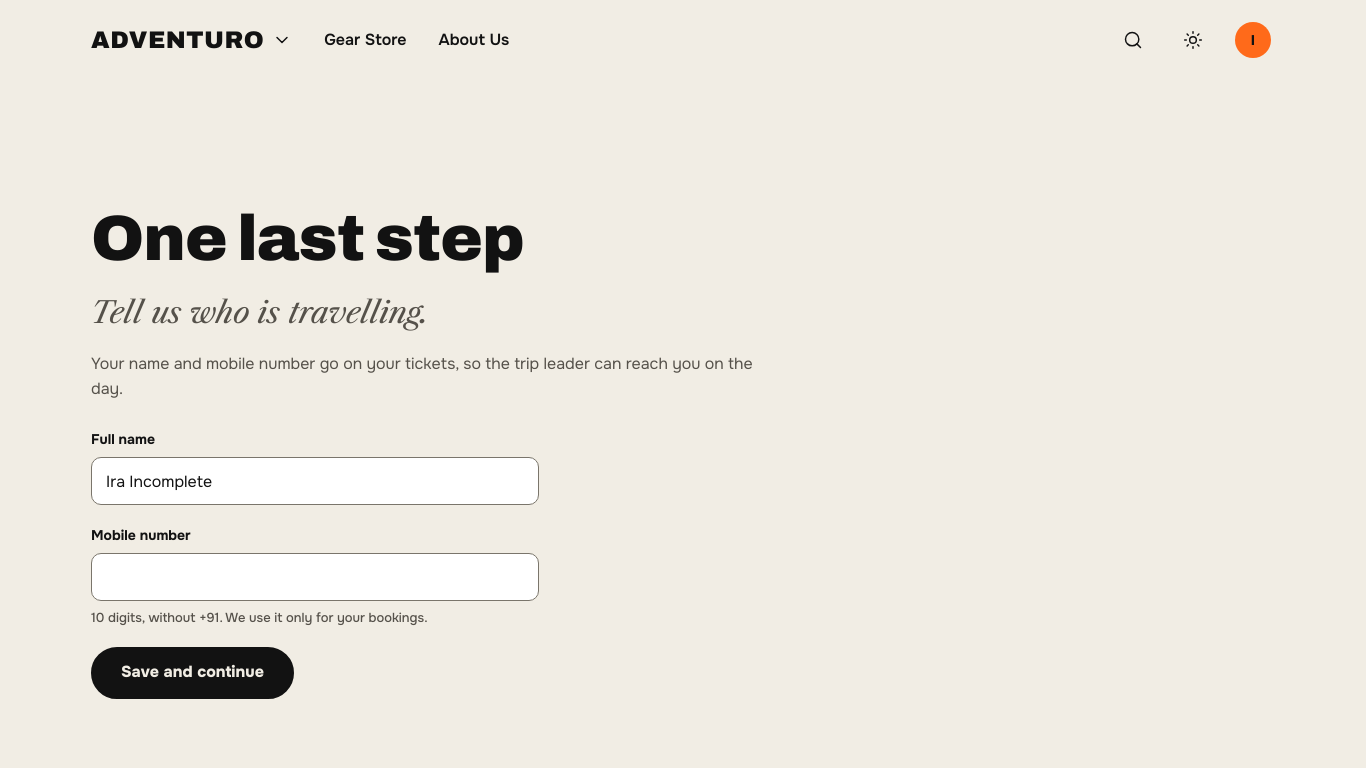
Scenario: onboarding › shows our own wording on a field the server rejects
The width and height of the screenshot is (1366, 768).
Expected: the heading "One last step" is shown, [91,204,524,274]
Type "9123456780" into the field labelled "Mobile number" at (315, 578), box [91,554,539,602]
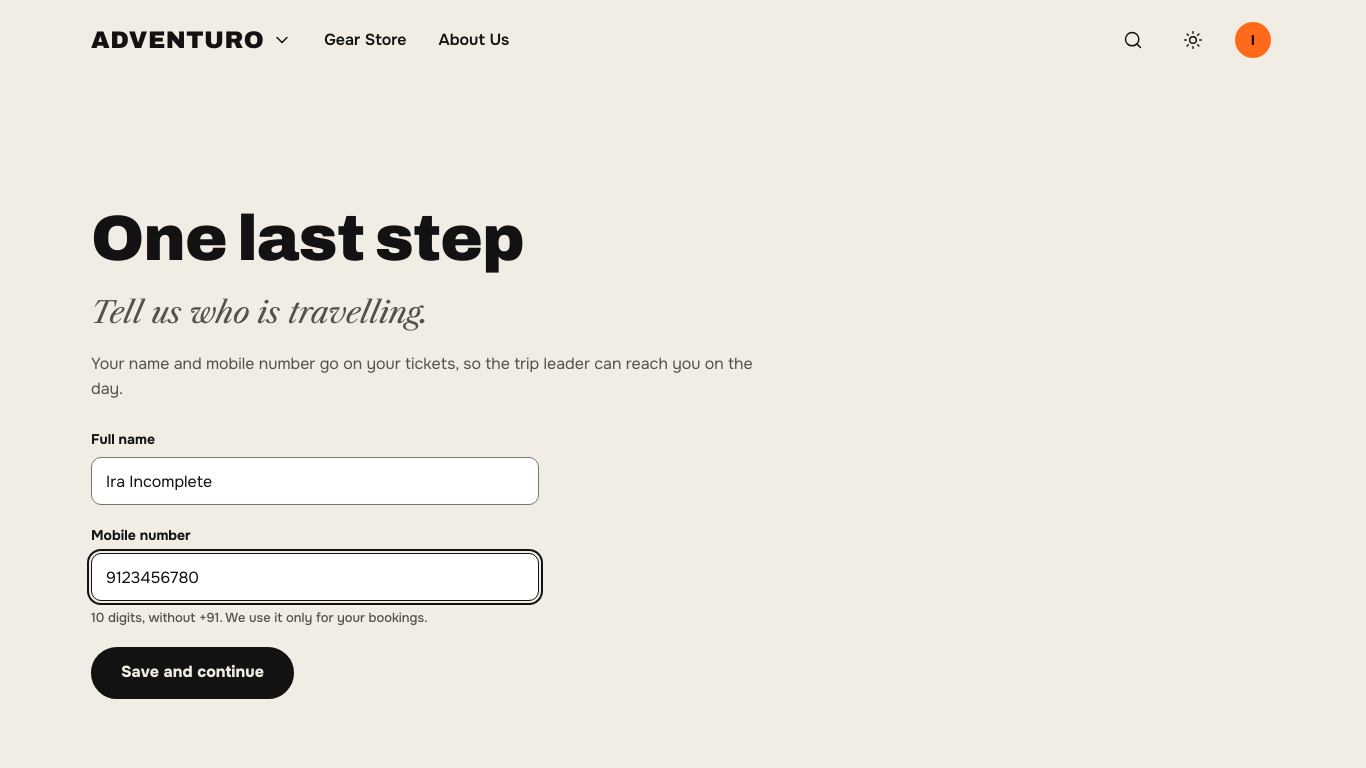
Click the button "Save and continue" at (192, 673), box [91,647,294,699]
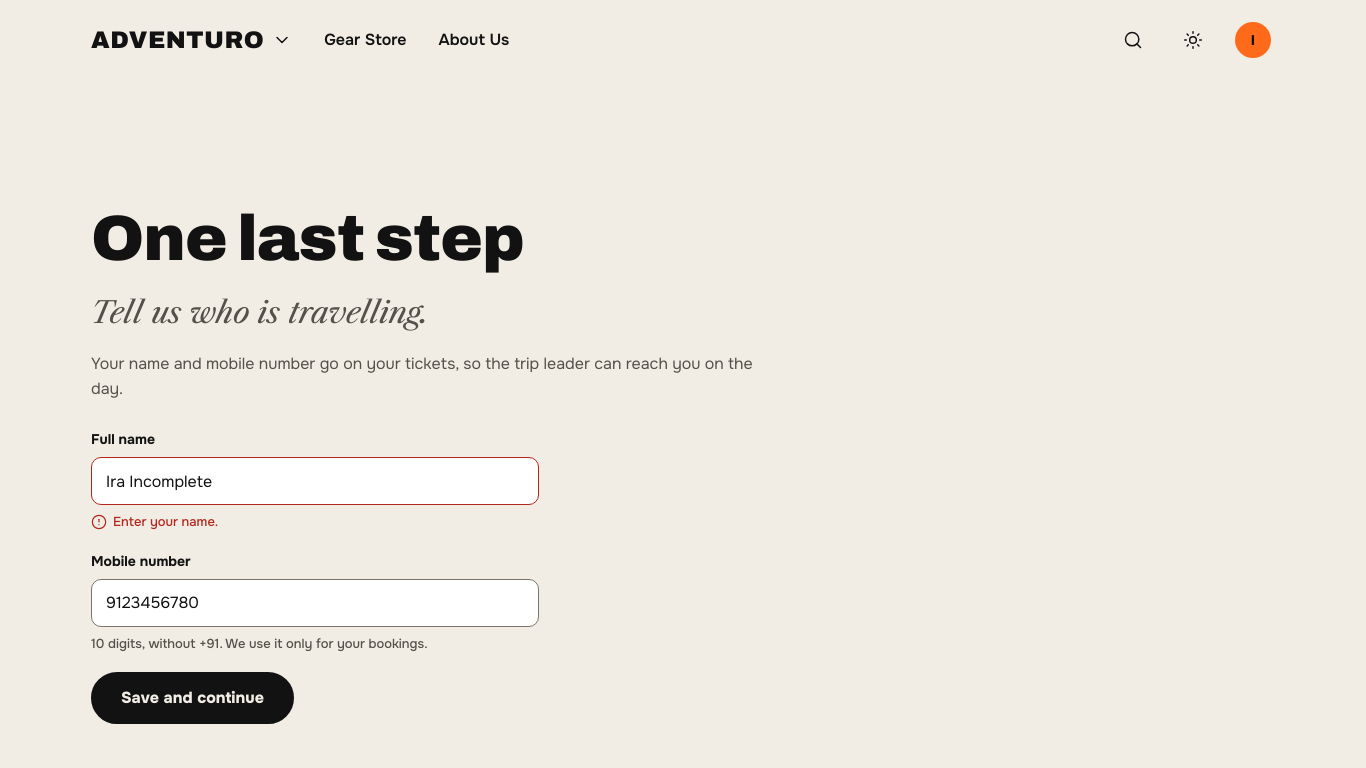
Expected: the message does not show "name too odd", [91,514,218,530]
Result: the message reads "Enter your name." at [113,514,218,530]
